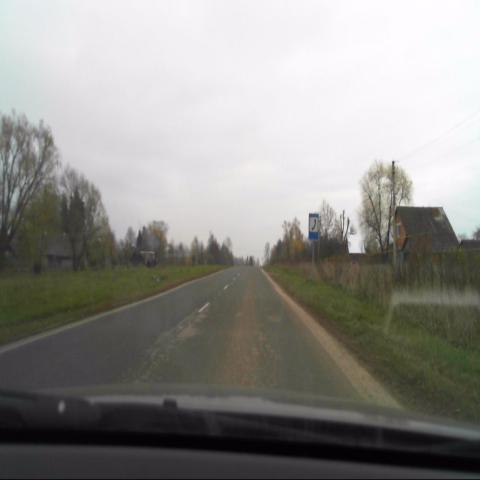7_6: (308, 213, 318, 239)
